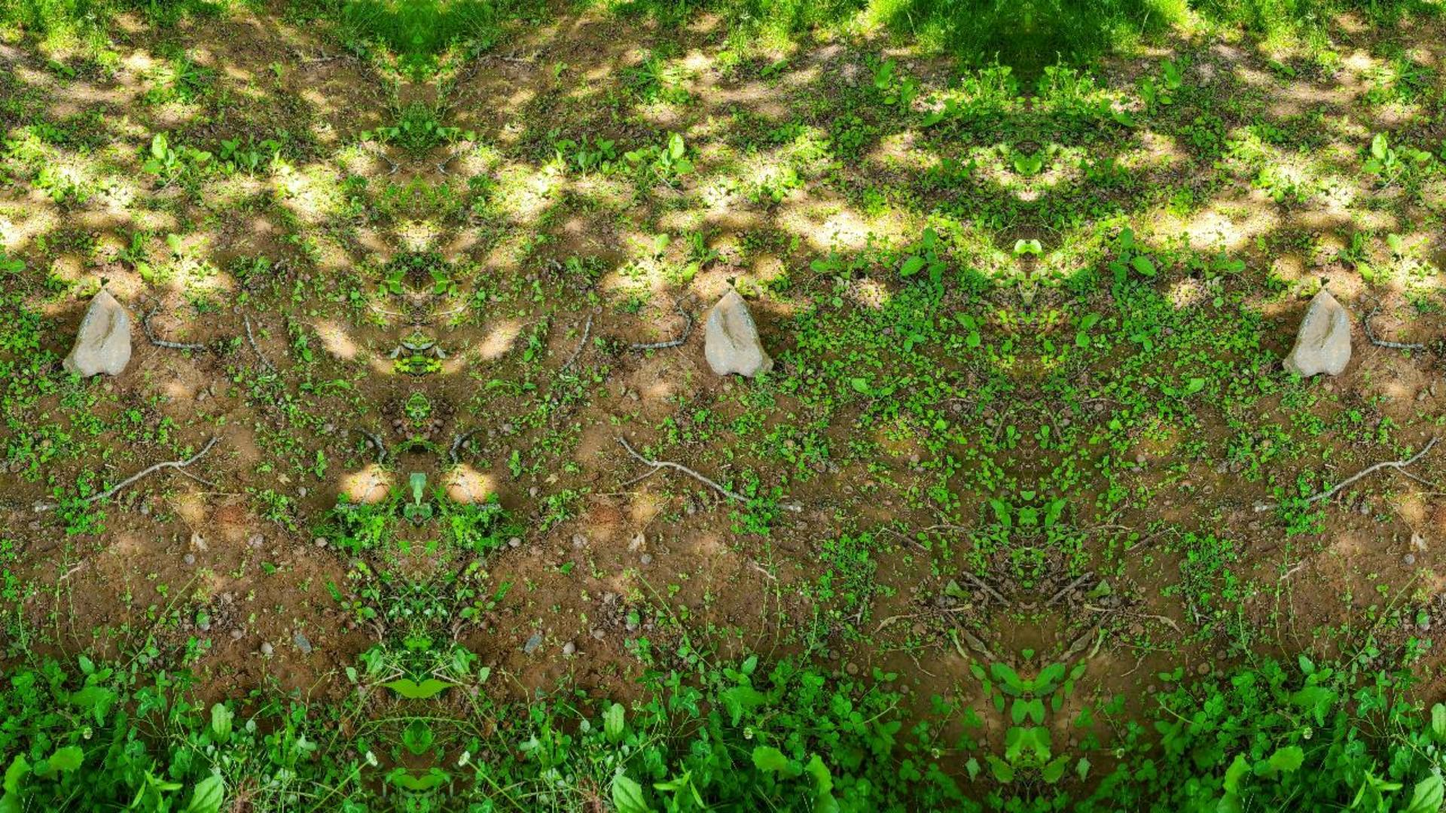rock: (62, 287, 131, 376), (705, 289, 773, 376), (1282, 289, 1350, 376)
